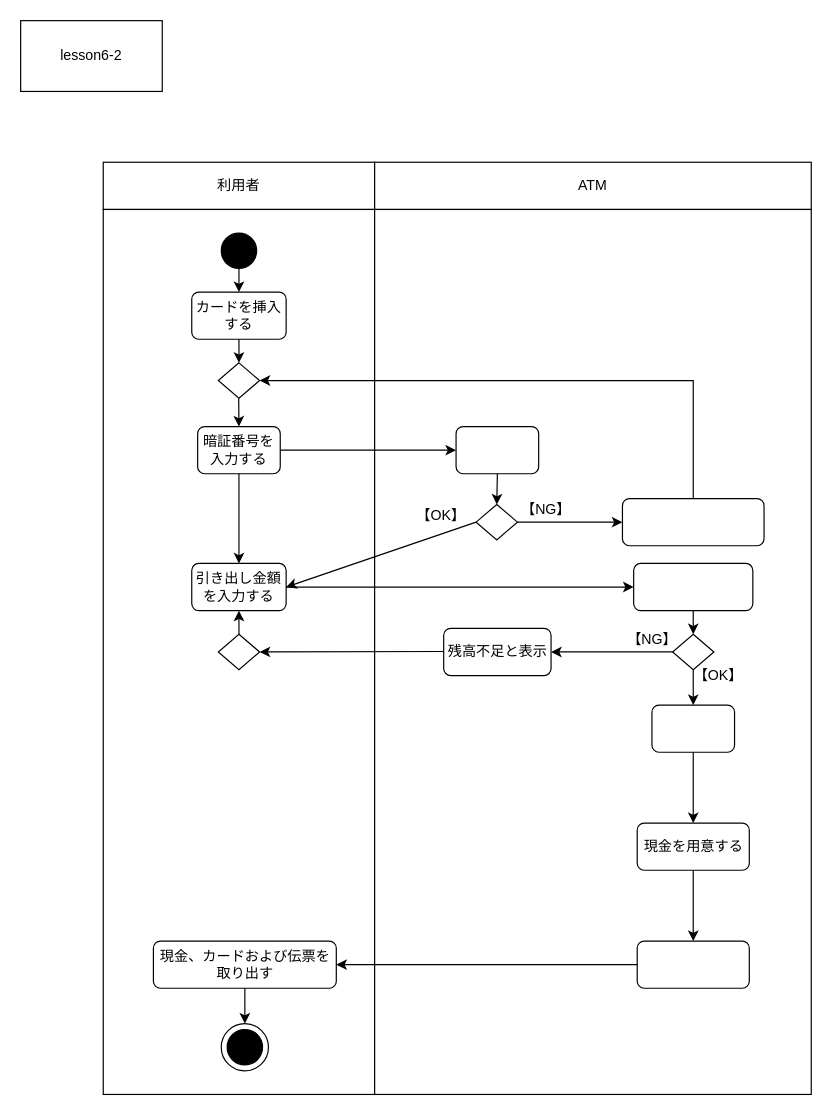
Some shapes in this 832 by 1115 pixel diagram are drawn without their labels. The centre of each missing label's shape, as x and y in pixels:
エラーメッセージを表示する: the point at 692,521
伝票を用意する: the point at 692,964
入力金額が口座にあるか確認: the point at 692,586
口座から引き落とす: the point at 693,728
暗証番号を確認する: the point at 497,449
